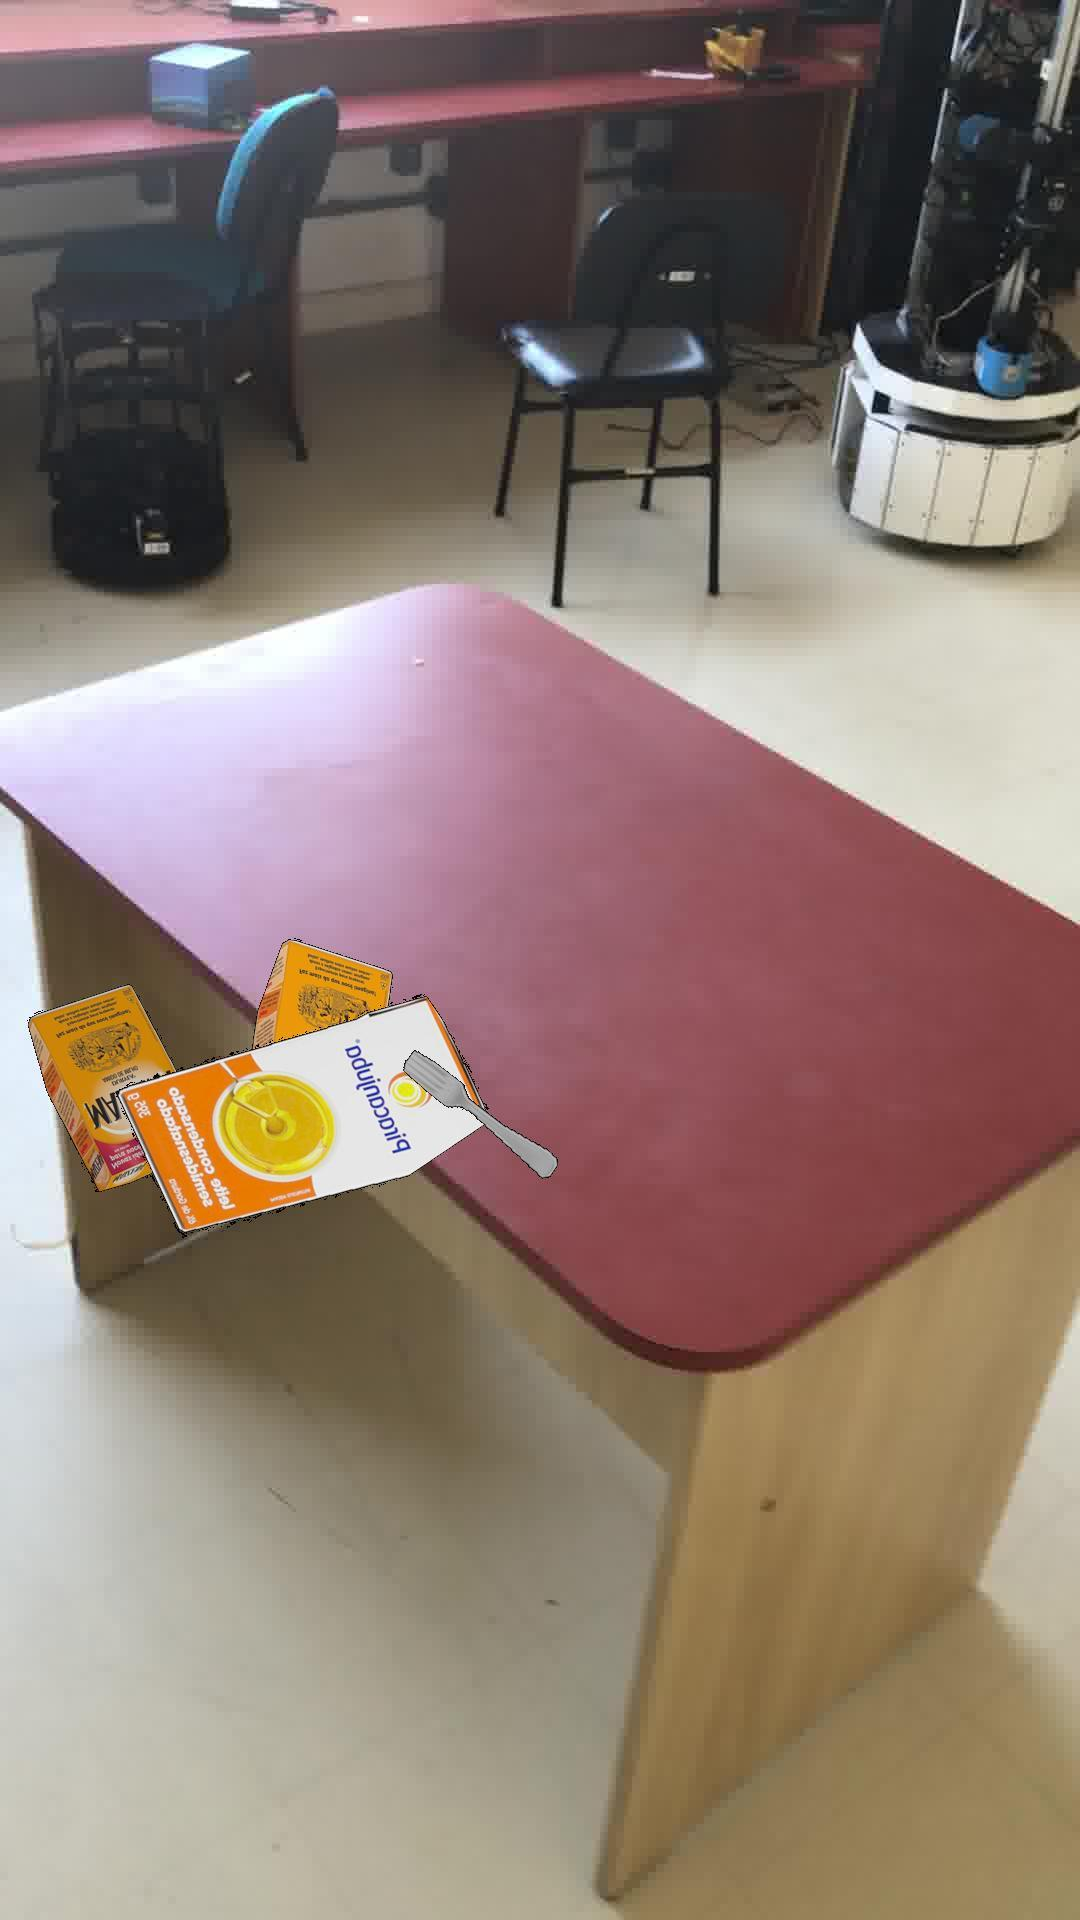fork: (401, 1048, 556, 1178)
